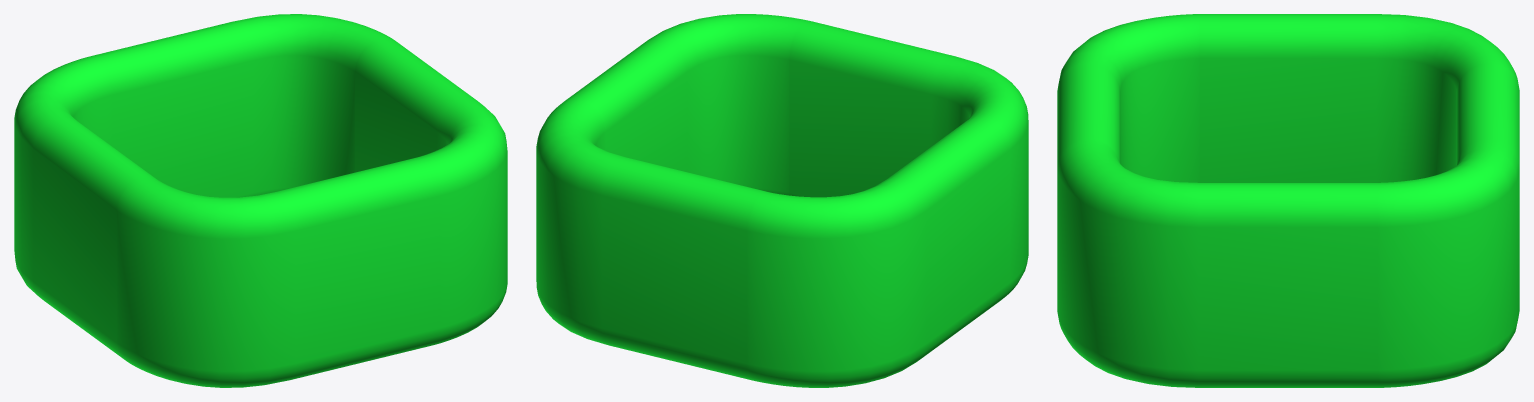
Rendered from Particle-14.dae.
3 renders of one model, left to right at view 1: azimuth 30°, elevation 25°; view 2: azimuth 150°, elevation 25°; view 3: azimuth 270°, elevation 25°, orthographic. The views are drawn at different scales.
Parts seen in each view (by area): view 1: Particle; view 2: Particle; view 3: Particle.
Part boxes in pixels (x1,y1,x2,y2): Particle: (14, 14, 507, 387); Particle: (536, 14, 1028, 387); Particle: (1057, 14, 1519, 387).
Size of the model in its own units: 0.1176 by 0.056 by 0.1176.
